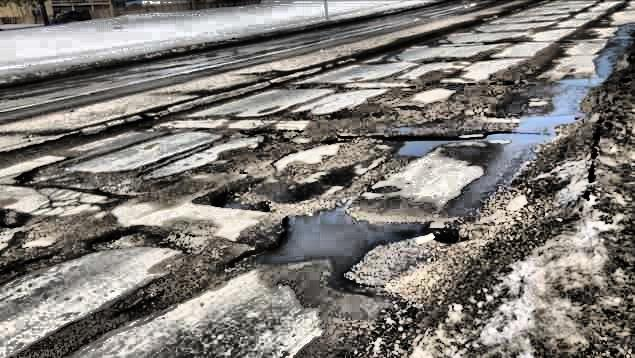pothole: (276, 206, 426, 286), (87, 226, 166, 254), (204, 184, 262, 214), (393, 126, 444, 158), (481, 126, 548, 145)
